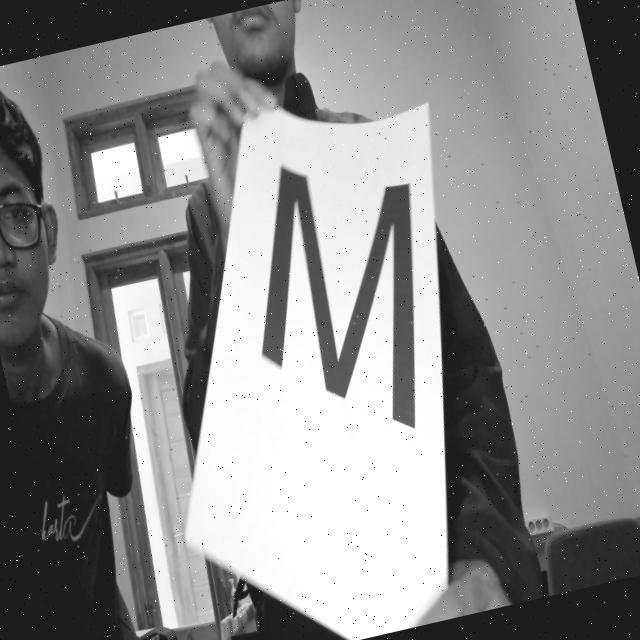m: (208, 116, 472, 476)
